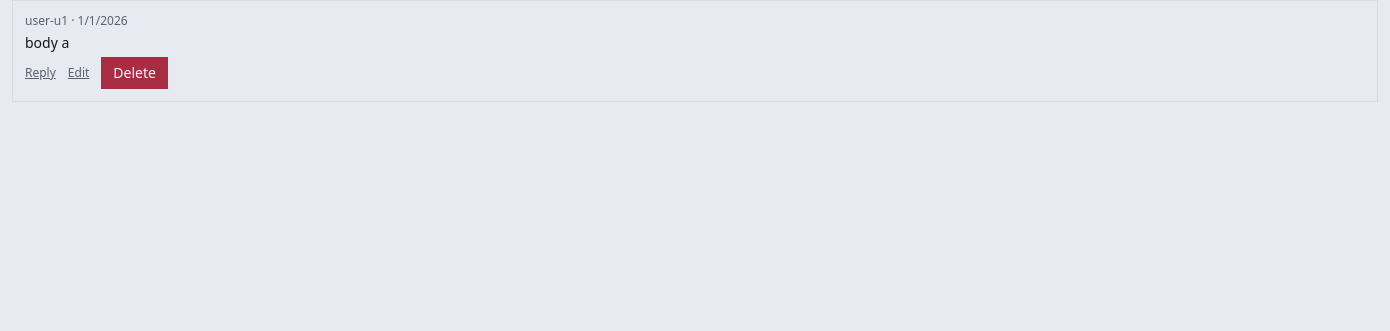
Test case: CommentThread › reveals a nested composer when Reply is clicked
Expected: the field labelled "Comment" is not shown
What coordinates should you click on to do the following:
click the button "Reply"
I would click on:
 (40, 73)
Its box is [25, 65, 56, 81].
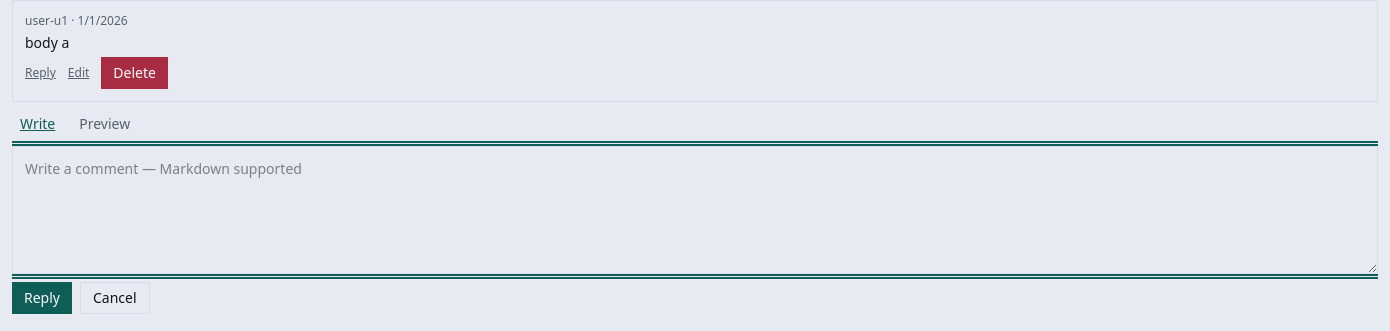
Expected: the text box labelled "comment" is shown, [12, 146, 1378, 274]
Expected: the 2nd button "Reply" is shown, [12, 282, 72, 314]
